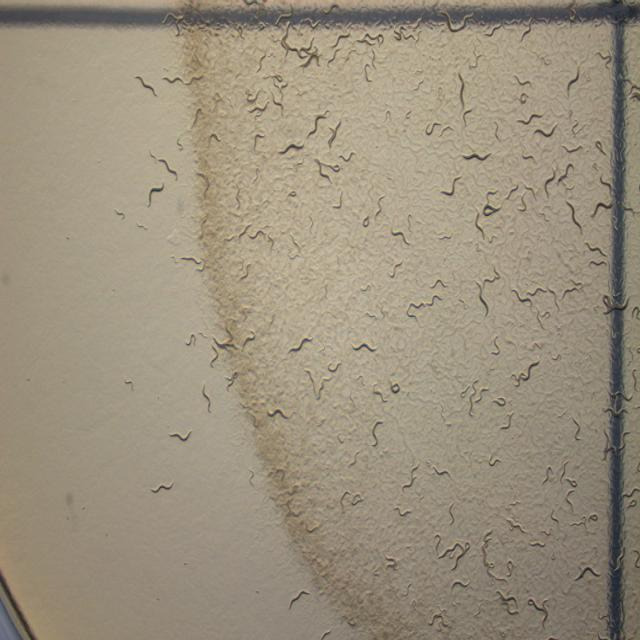filarid: (406, 294, 441, 318), (566, 200, 582, 233), (289, 589, 310, 610), (148, 182, 165, 206), (477, 282, 489, 314), (289, 337, 312, 353), (201, 382, 211, 414), (585, 242, 606, 257), (150, 481, 174, 494), (169, 429, 192, 442), (544, 170, 555, 196), (391, 229, 410, 244), (591, 202, 611, 216), (558, 163, 572, 183), (352, 342, 377, 352), (375, 195, 384, 218), (431, 279, 448, 289), (390, 262, 401, 277), (115, 209, 125, 219), (362, 215, 370, 227), (125, 380, 134, 389), (186, 334, 194, 344), (590, 260, 605, 265), (136, 223, 148, 229), (459, 298, 465, 304), (182, 257, 192, 260)
